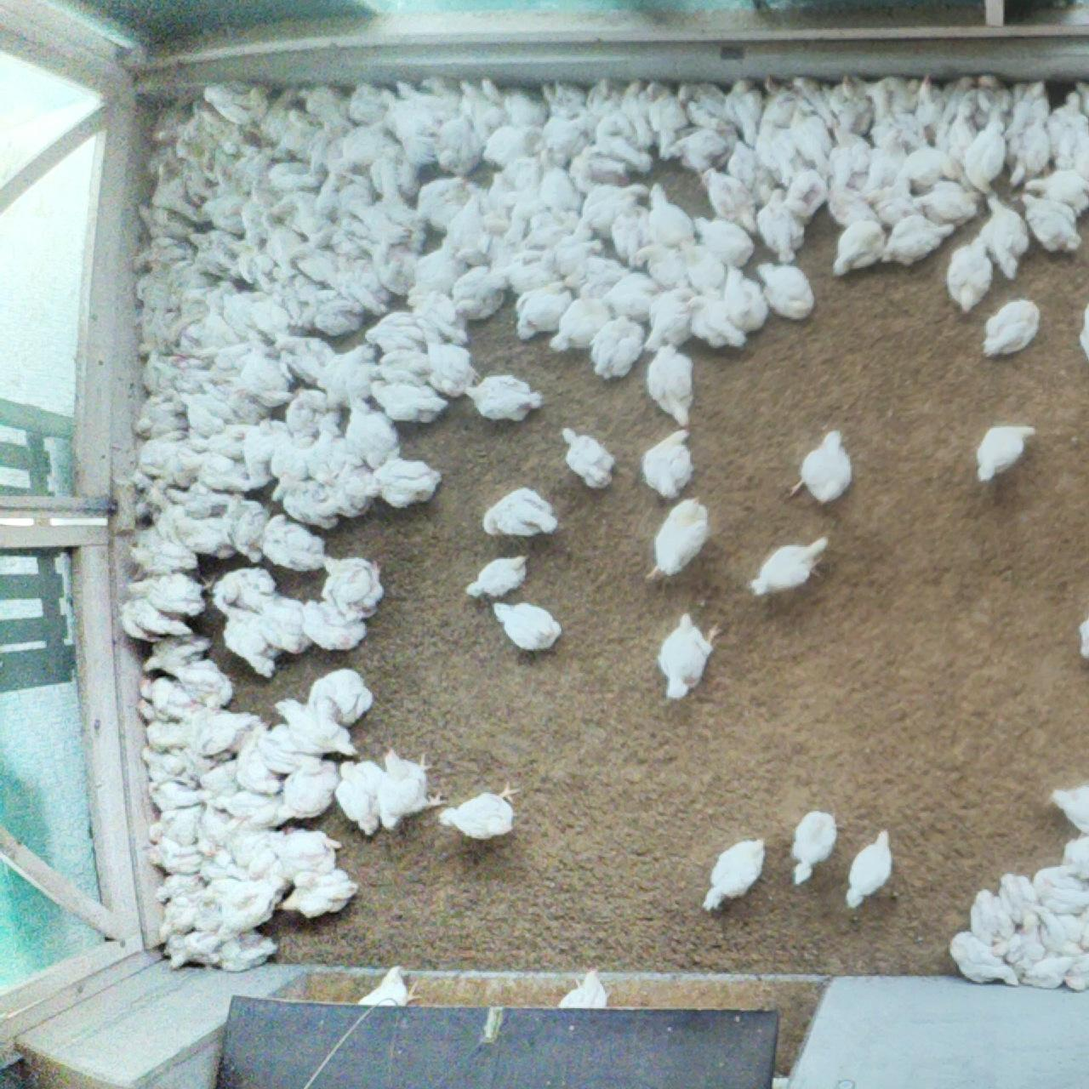chicken: (654, 610, 726, 703), (647, 499, 714, 583), (379, 745, 445, 830), (786, 428, 857, 507), (436, 779, 525, 841), (750, 533, 832, 598), (272, 695, 355, 757), (644, 344, 704, 428), (701, 837, 767, 913), (276, 869, 361, 924), (379, 85, 439, 162), (251, 512, 329, 571), (241, 413, 297, 493), (365, 459, 446, 514), (639, 428, 700, 501), (219, 877, 286, 943), (978, 194, 1031, 277), (576, 180, 654, 236), (697, 166, 761, 234), (591, 115, 660, 178), (370, 179, 432, 249), (480, 486, 560, 540), (463, 371, 546, 423), (336, 757, 391, 835), (196, 926, 280, 977), (789, 94, 841, 176), (844, 828, 896, 909), (788, 808, 840, 889), (128, 571, 215, 619), (975, 421, 1042, 483), (1019, 191, 1087, 252), (880, 213, 958, 266), (353, 236, 423, 295), (235, 349, 301, 411), (319, 344, 381, 410), (641, 286, 701, 354), (949, 931, 1019, 989), (490, 600, 565, 654), (321, 555, 387, 616), (369, 378, 452, 426), (415, 177, 486, 233), (640, 80, 689, 161), (550, 294, 614, 356), (513, 281, 574, 345), (979, 298, 1044, 358), (943, 237, 993, 315), (589, 316, 649, 381), (405, 244, 473, 301), (347, 401, 402, 471), (758, 188, 808, 265), (279, 761, 341, 823), (200, 77, 276, 127), (300, 598, 369, 653), (222, 610, 276, 680), (312, 667, 377, 725), (283, 384, 349, 441), (963, 117, 1010, 197), (203, 379, 278, 429), (188, 99, 261, 150), (683, 294, 748, 351), (754, 118, 808, 186), (897, 143, 965, 197), (279, 472, 341, 531), (560, 426, 618, 489), (179, 445, 252, 495), (272, 331, 336, 388), (118, 598, 199, 643), (125, 527, 199, 575), (756, 262, 816, 321), (258, 594, 315, 656), (196, 708, 265, 759), (304, 432, 369, 486), (673, 127, 746, 175), (269, 430, 319, 500), (160, 478, 245, 519), (224, 493, 273, 564), (227, 829, 289, 885), (646, 181, 697, 249), (213, 790, 304, 828), (316, 468, 380, 522), (481, 75, 546, 128), (363, 310, 441, 354), (827, 124, 876, 194), (413, 292, 473, 349), (532, 115, 592, 172), (257, 723, 325, 773), (135, 698, 199, 751), (463, 552, 533, 600), (442, 196, 490, 266), (313, 169, 380, 219), (433, 115, 487, 177), (191, 415, 262, 462), (130, 389, 195, 440), (602, 271, 667, 322), (1007, 119, 1053, 191), (212, 565, 279, 614), (252, 87, 302, 152), (830, 220, 887, 277), (610, 205, 666, 263), (695, 216, 757, 268), (1022, 166, 1089, 214), (176, 389, 241, 438), (1046, 94, 1089, 168), (722, 76, 766, 148), (546, 227, 604, 281), (277, 828, 345, 874), (348, 207, 414, 254), (173, 661, 236, 710), (251, 210, 306, 266), (272, 108, 326, 165), (450, 267, 507, 321), (219, 291, 277, 344), (917, 180, 981, 228), (428, 340, 480, 399), (353, 962, 424, 1005), (196, 343, 274, 382), (133, 436, 195, 485), (489, 250, 552, 298), (729, 141, 777, 204), (337, 123, 401, 170), (724, 267, 771, 331), (248, 299, 314, 344), (148, 175, 211, 222), (140, 634, 214, 674), (190, 877, 240, 936), (563, 256, 636, 296), (968, 887, 1018, 945), (790, 73, 840, 131), (677, 78, 731, 131), (200, 145, 255, 197), (680, 241, 732, 296), (230, 238, 281, 294), (236, 737, 286, 794), (176, 515, 239, 560), (305, 121, 356, 176), (266, 189, 328, 234), (138, 200, 200, 243), (834, 71, 874, 137), (187, 231, 243, 278), (864, 182, 925, 225), (260, 160, 329, 198), (619, 75, 653, 152), (632, 244, 691, 288), (481, 123, 535, 171), (1034, 867, 1089, 914), (867, 113, 930, 154), (824, 185, 884, 228), (1035, 905, 1085, 956), (784, 169, 832, 222), (571, 155, 633, 196), (504, 157, 551, 211), (930, 107, 977, 161), (172, 124, 232, 166), (144, 144, 204, 186), (536, 167, 585, 218), (164, 931, 221, 974), (866, 73, 915, 123), (168, 271, 220, 318), (761, 72, 804, 128), (396, 78, 449, 123), (140, 744, 201, 783), (140, 678, 201, 717), (554, 967, 612, 1008), (146, 804, 205, 844), (520, 211, 579, 250), (158, 892, 202, 944), (539, 76, 592, 119), (145, 778, 212, 812), (302, 215, 356, 257), (147, 836, 205, 875), (378, 347, 433, 388), (138, 350, 188, 395), (184, 316, 240, 356), (975, 74, 1015, 130), (200, 757, 251, 800), (197, 193, 250, 234), (350, 80, 398, 125), (1002, 97, 1051, 141), (907, 75, 948, 127), (318, 257, 366, 301), (223, 191, 272, 234), (369, 155, 419, 197), (132, 239, 195, 272), (131, 472, 175, 519), (863, 145, 907, 192), (196, 804, 245, 846), (1000, 874, 1042, 922), (314, 300, 367, 338), (1051, 783, 1089, 835), (1019, 955, 1073, 991), (231, 150, 275, 194), (420, 76, 464, 120), (505, 199, 549, 243), (255, 264, 300, 307), (939, 74, 979, 122), (297, 83, 353, 117), (991, 922, 1043, 958), (134, 272, 174, 318), (174, 746, 225, 782), (1009, 78, 1053, 119), (586, 75, 625, 121), (349, 274, 392, 315), (291, 245, 335, 285), (137, 315, 183, 353), (199, 839, 239, 882), (170, 355, 215, 392), (156, 873, 208, 905), (150, 505, 195, 541), (203, 279, 241, 320), (311, 100, 354, 136), (151, 99, 189, 138), (295, 281, 339, 314), (456, 77, 490, 119), (1059, 835, 1089, 881), (486, 232, 536, 259), (487, 171, 520, 207), (1069, 128, 1089, 186), (481, 203, 517, 234), (1064, 953, 1089, 995), (1005, 942, 1047, 965), (1076, 78, 1089, 121), (1080, 304, 1089, 360), (1079, 905, 1089, 955), (1079, 616, 1089, 663)
